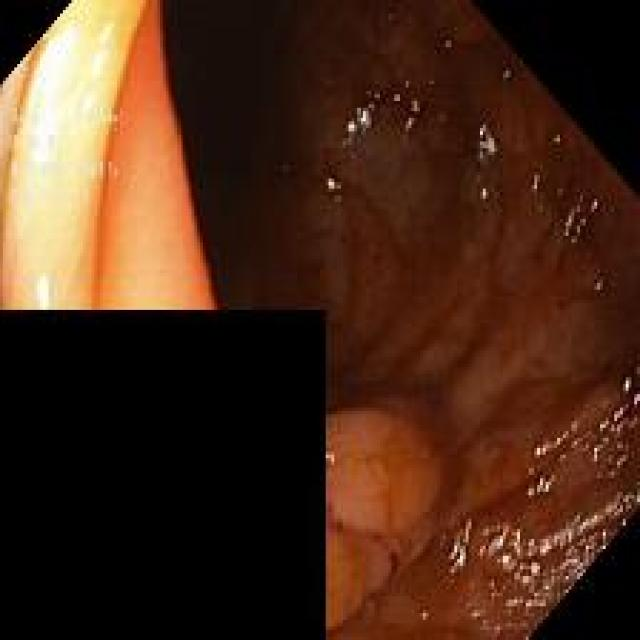Polyps: (328, 410, 440, 629)
